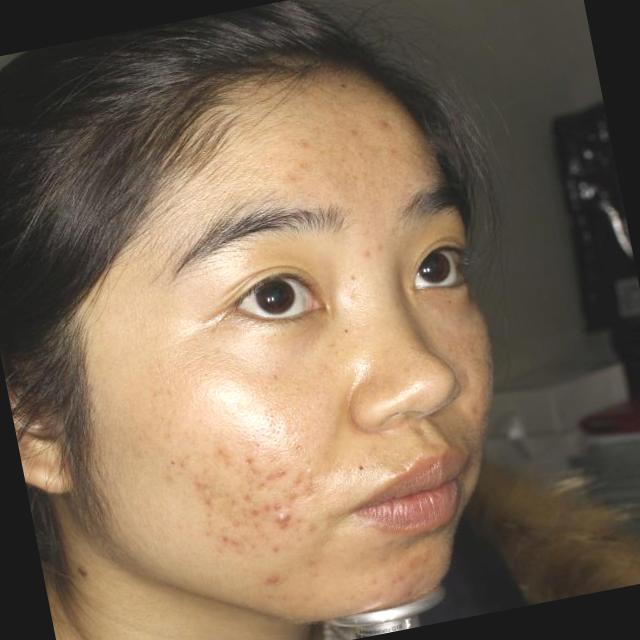acne: (182, 470, 225, 518), (232, 482, 274, 530), (294, 467, 330, 509), (401, 546, 441, 581), (210, 522, 246, 560), (270, 499, 302, 538), (371, 109, 408, 140), (258, 459, 293, 491), (255, 564, 288, 594), (238, 454, 262, 478), (208, 444, 234, 458)
